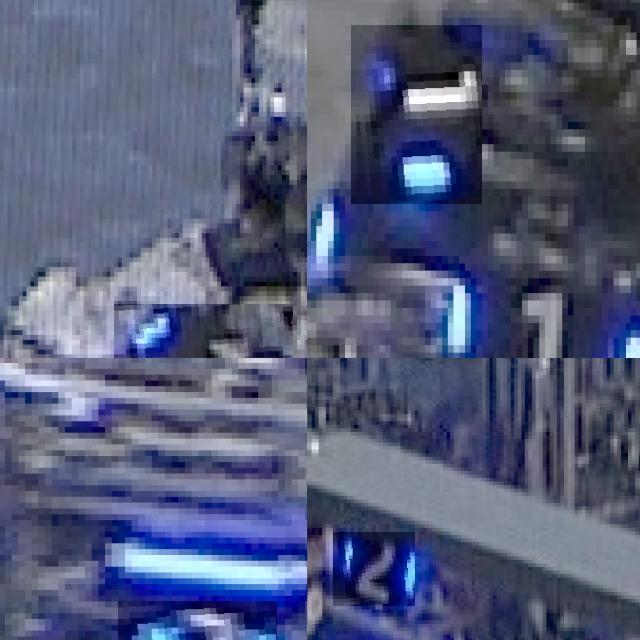B1: (351, 25, 482, 204), (436, 248, 640, 358), (114, 303, 293, 358)
B2: (118, 601, 278, 640), (333, 532, 415, 606)
